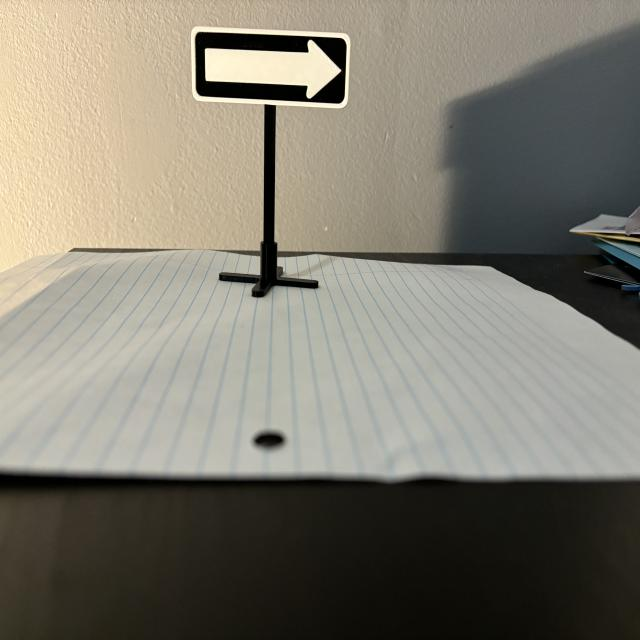sign_oneway_right: (193, 27, 351, 110)
